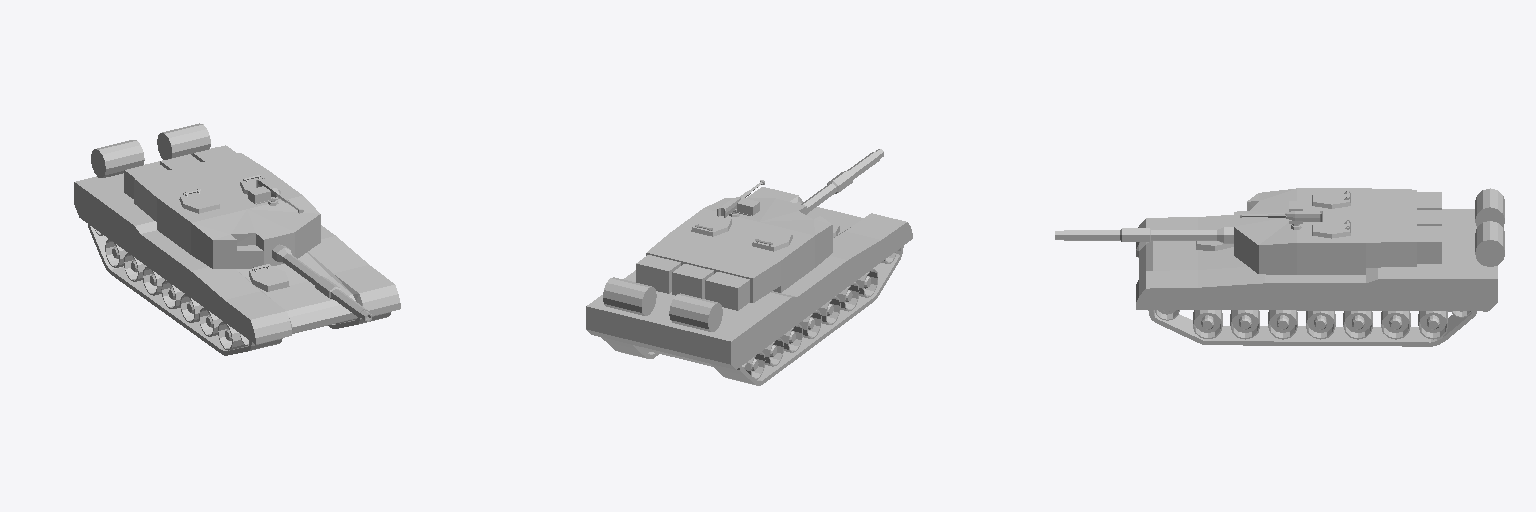
Rendered from PlayerTank.obj.
3 views of the same model, side by side, from view 1: azimuth 30°, elevation 25°; view 2: azimuth 150°, elevation 25°; view 3: azimuth 270°, elevation 25° (orthographic).
Visible parts, largest first — view 1: Plane.003; view 2: Plane.003; view 3: Plane.003.
Boxes of the visible parts, box(x1,y1,x2,y2) form: Plane.003: box(74, 123, 400, 355); Plane.003: box(586, 149, 912, 385); Plane.003: box(1055, 188, 1504, 346).
Bounding box in the file's own units: 1.27 × 0.9484 × 3.43.